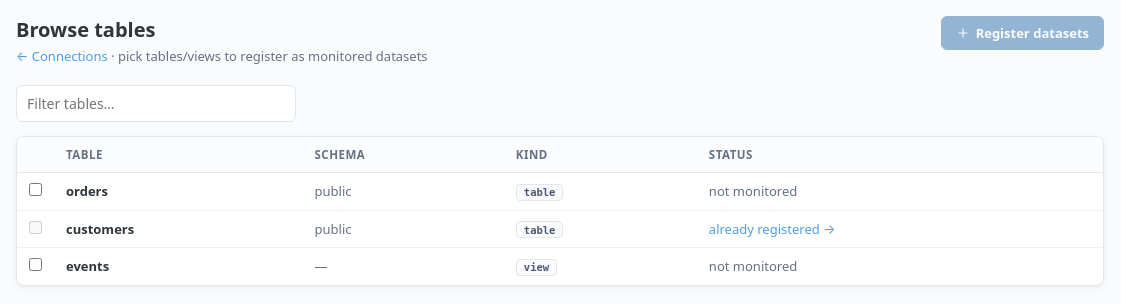
Test: Browse tables — row selection › still toggles selection when the checkbox is picked by name
The image size is (1121, 304).
Step 1. Click the checkbox named "Select public.orders" → x=36, y=190, box [29,183,42,196]
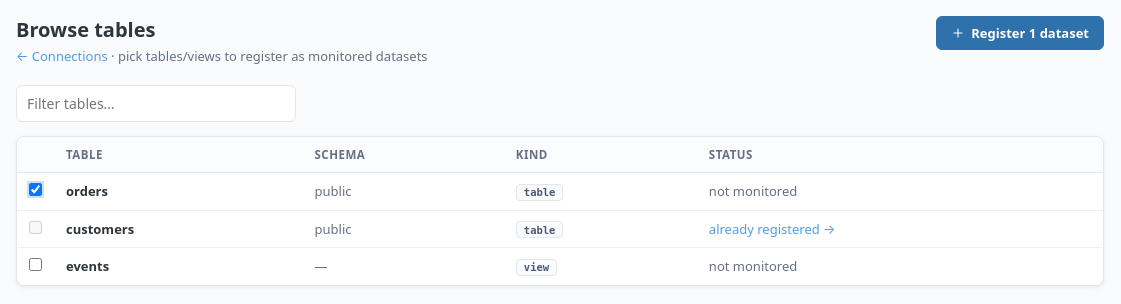
expect the checkbox named "Select public.orders" is checked: met, box [29,183,42,196]
expect the button "Register 1 dataset" is enabled: met, box [936,16,1104,50]
